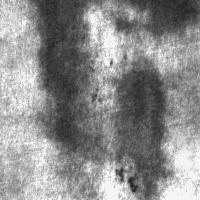patches: (33, 1, 94, 155), (115, 65, 163, 194), (136, 60, 200, 148), (118, 1, 200, 34)
